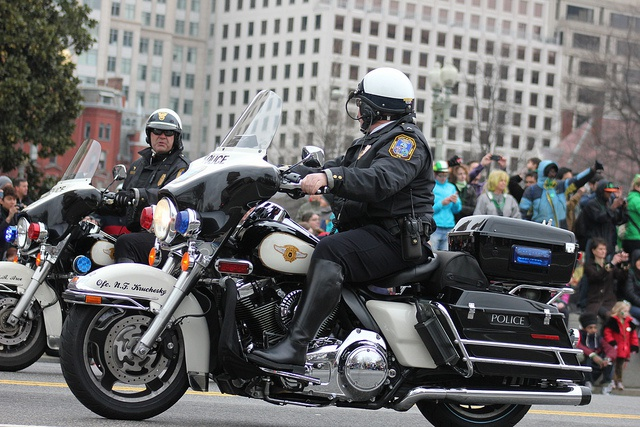non-vehicle: (58, 89, 595, 427), (0, 138, 137, 372)
